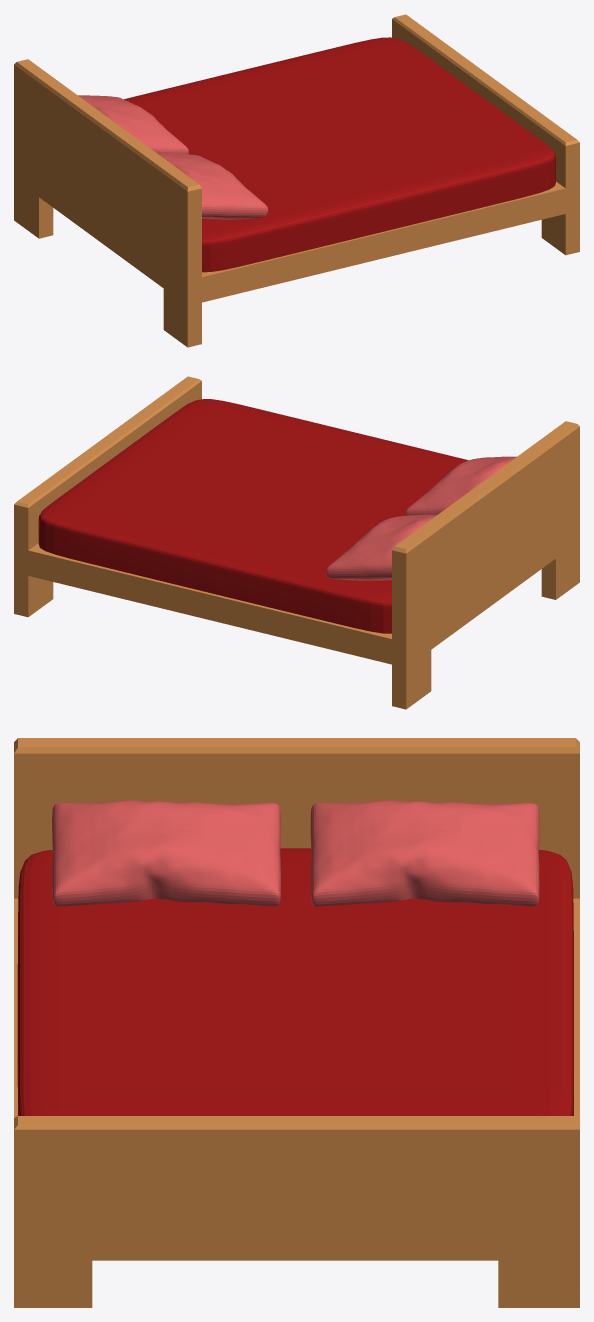
File: Yataklar2.fbx
3 renders of one model, top to bottom at view 1: azimuth 30°, elevation 25°; view 2: azimuth 150°, elevation 25°; view 3: azimuth 270°, elevation 25°, orthographic. The views are drawn at different scales.
Parts seen in each view (by area): view 1: Cube.003; view 2: Cube.003; view 3: Cube.003.
Part boxes in pixels (box(x1,y1,x2,y2)): Cube.003: box(14, 14, 579, 347); Cube.003: box(14, 376, 579, 709); Cube.003: box(14, 738, 579, 1307).
Size of the model in its own units: 702 by 272 by 538.
